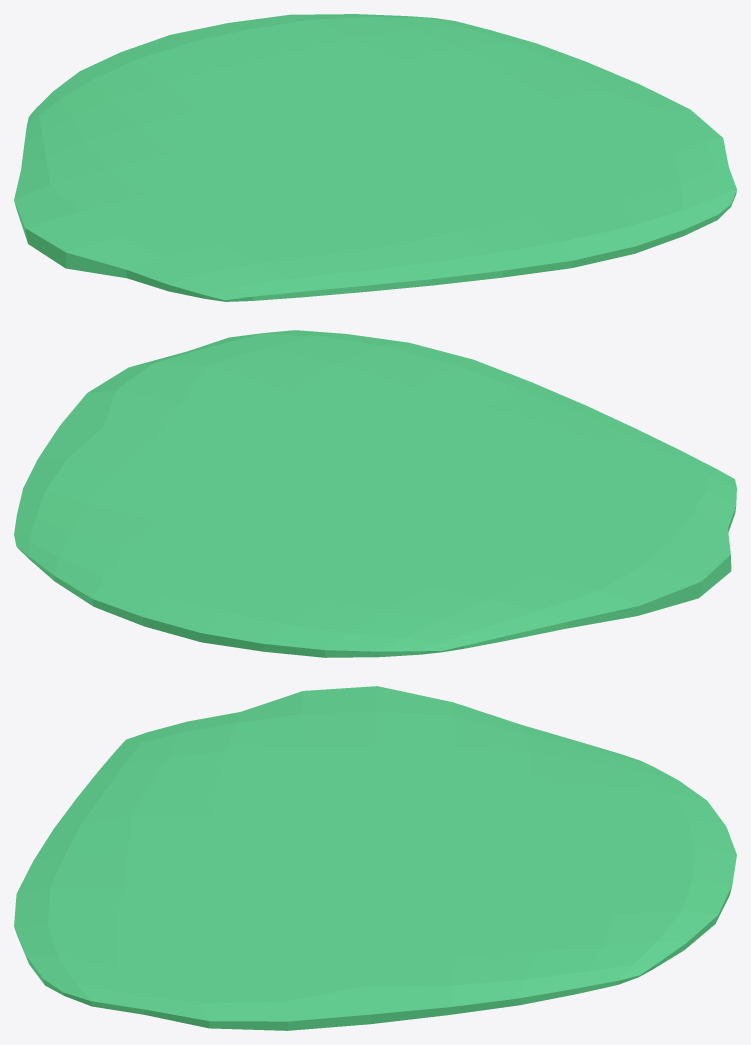
Rendered from ground.fbx.
3 renders of one model, top to bottom at view 1: azimuth 30°, elevation 25°; view 2: azimuth 150°, elevation 25°; view 3: azimuth 270°, elevation 25°, orthographic. The views are drawn at different scales.
Visible parts, largest first — view 1: Plane.008; view 2: Plane.008; view 3: Plane.008.
Part boxes in pixels (x1,y1,x2,y2): Plane.008: (14, 14, 736, 301); Plane.008: (14, 330, 736, 657); Plane.008: (14, 686, 736, 1030).
Size of the model in its own units: 925 by 33.15 by 853.
